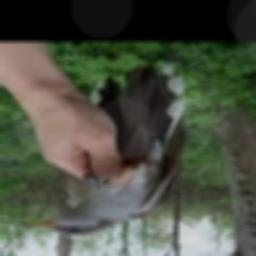Cuckoo: (21, 66, 186, 235)
